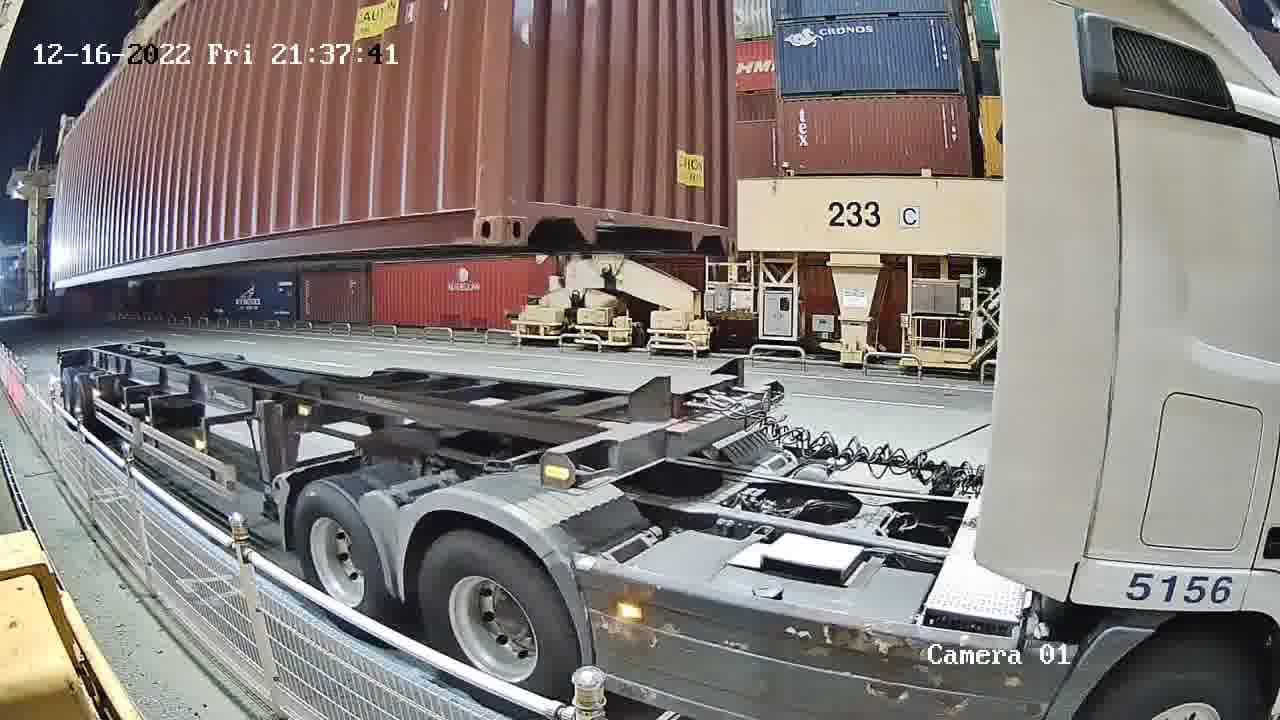Chassis: (538, 393, 793, 493)
Container: (493, 173, 737, 251)
Hole_L: (493, 173, 536, 249)
Hole_R: (438, 171, 493, 249), (711, 191, 736, 253)
Tire: (418, 535, 576, 704), (296, 488, 381, 623)
